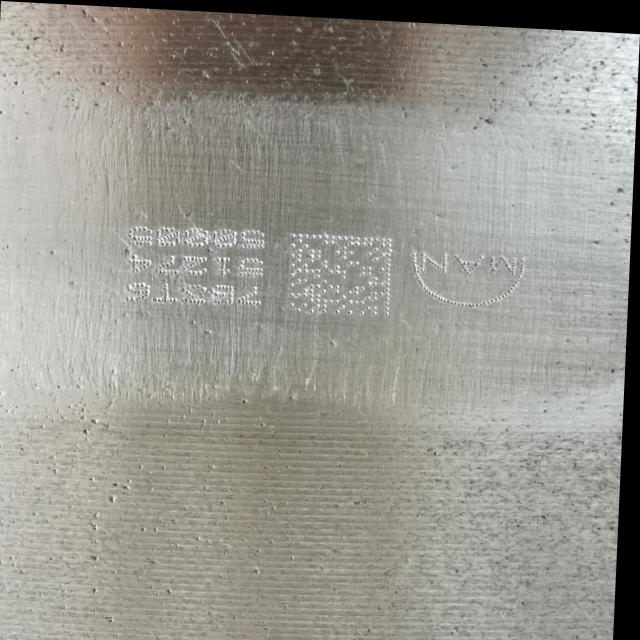dmc: (291, 228, 393, 311)
